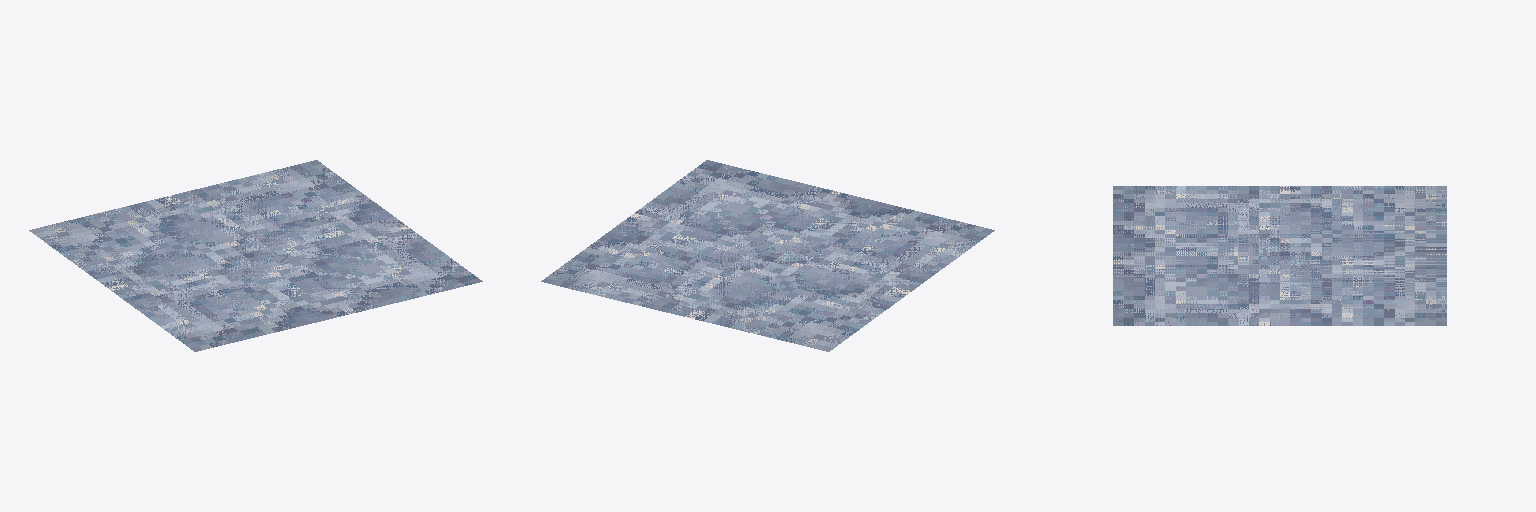
The picture shows the model from 3 angles: view 1: azimuth 30°, elevation 25°; view 2: azimuth 150°, elevation 25°; view 3: azimuth 270°, elevation 25°; orthographic projection.
Parts seen in each view (by area): view 1: Cube; view 2: Cube; view 3: Cube.
Boxes of the visible parts, <box> form: Cube: <box>29,160,482,351</box>; Cube: <box>541,160,994,351</box>; Cube: <box>1113,186,1446,325</box>.
Size of the model in its own units: 2 by 0 by 2.
1 materials, 1 textured.